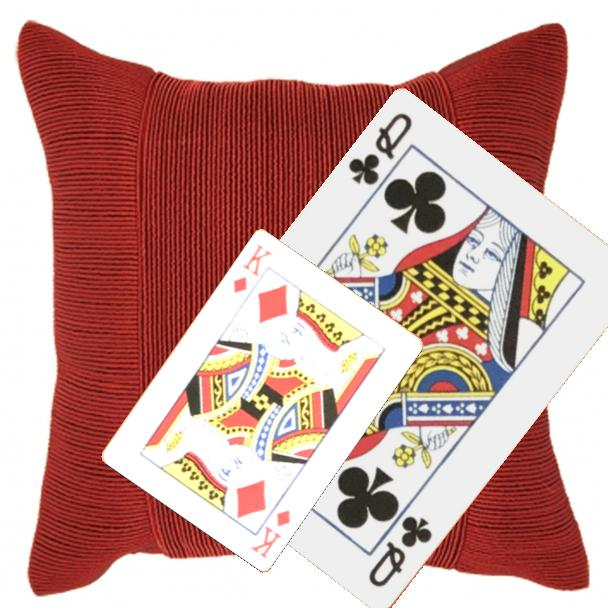c12: (364, 512, 436, 592), (344, 109, 416, 189)
d13: (229, 239, 275, 296), (247, 505, 293, 561)
